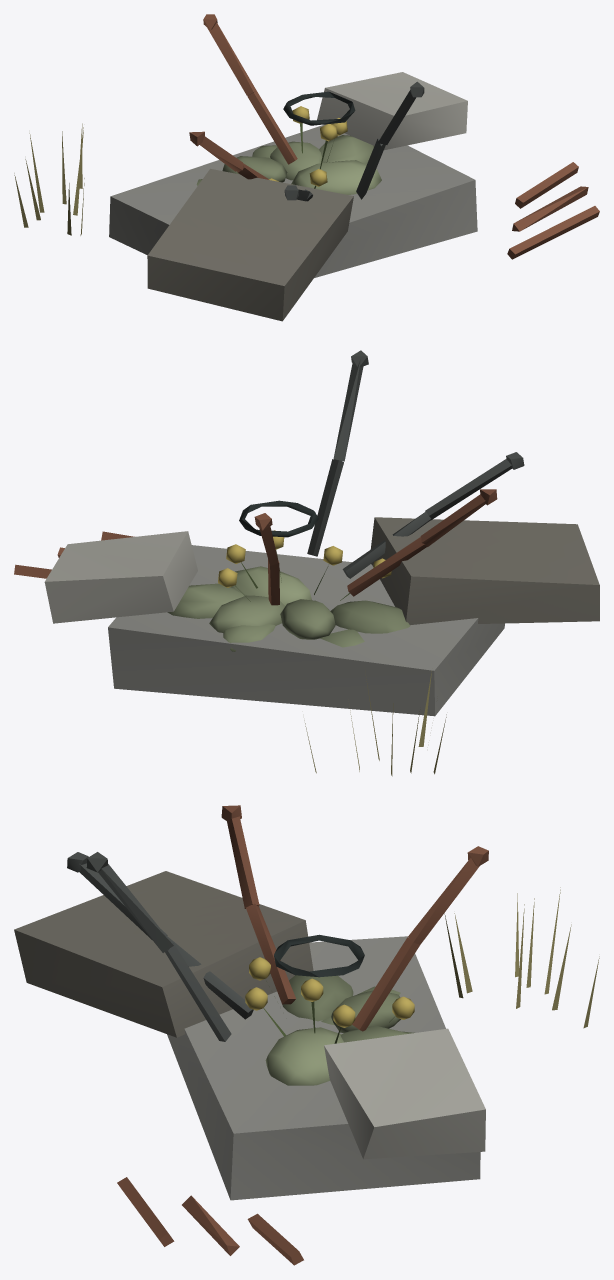
File: rebar_bloom_c_lod1.glb
3 renders of one model, top to bottom at view 1: azimuth 30°, elevation 25°; view 2: azimuth 150°, elevation 25°; view 3: azimuth 270°, elevation 25°, orthographic. The views are drawn at different scales.
Parts seen in each view (by area): view 1: Surface.001; view 2: Surface.001; view 3: Surface.001.
Boxes of the visible parts, bbox=[...] form: Surface.001: bbox=[14, 14, 599, 321]; Surface.001: bbox=[14, 350, 599, 776]; Surface.001: bbox=[14, 805, 599, 1265].
Bounding box in the file's own units: 4.96 × 2.1 × 4.05.
